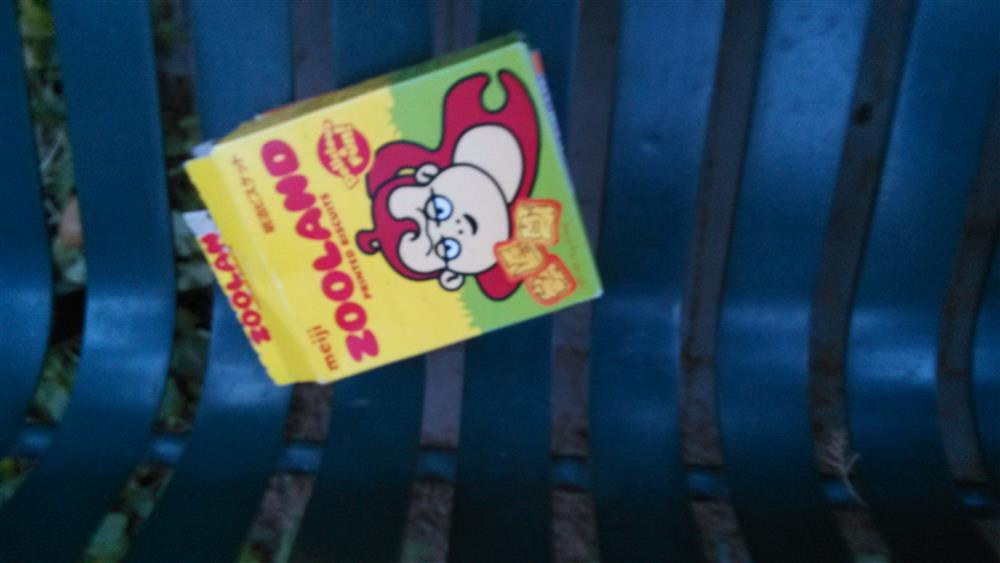zooland: (182, 34, 604, 388)
